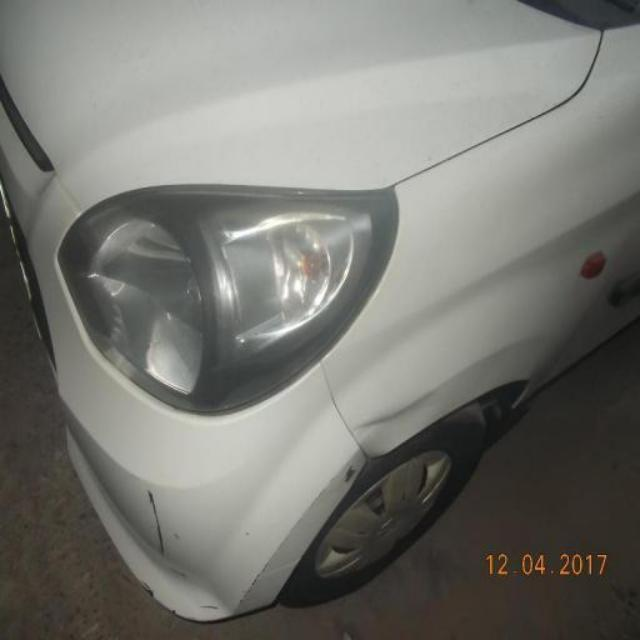crack: (140, 487, 168, 558), (134, 571, 158, 599), (343, 464, 358, 489)
dent: (351, 411, 426, 469)
scratch: (234, 558, 273, 614)
